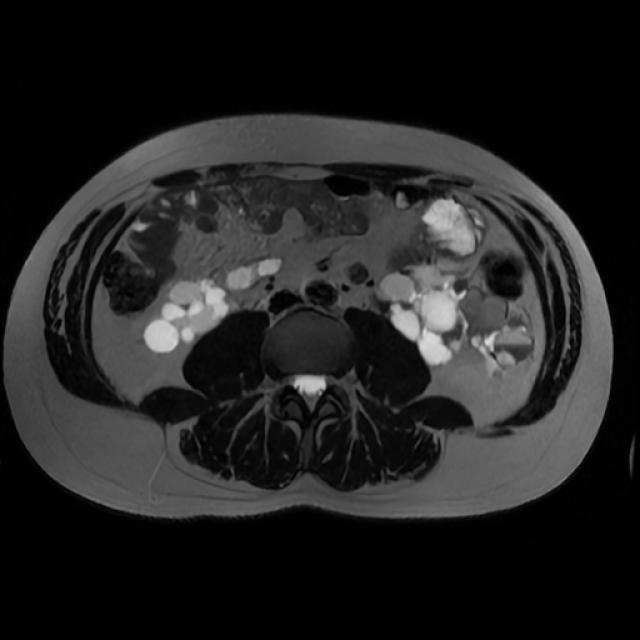sag: (140, 277, 237, 357)
sol: (374, 263, 536, 381)
